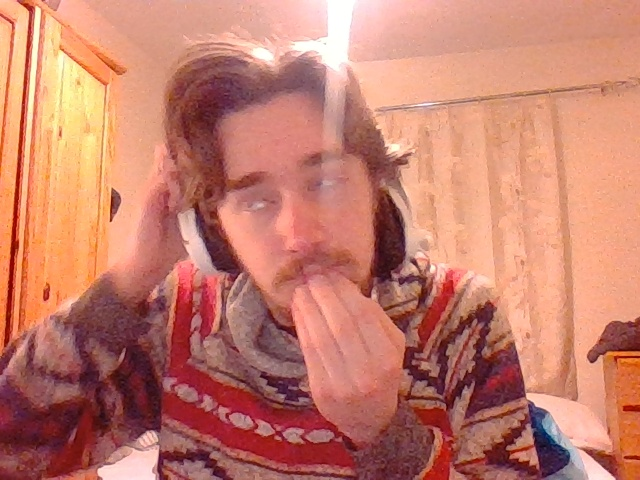thanks: (289, 271, 407, 430)
